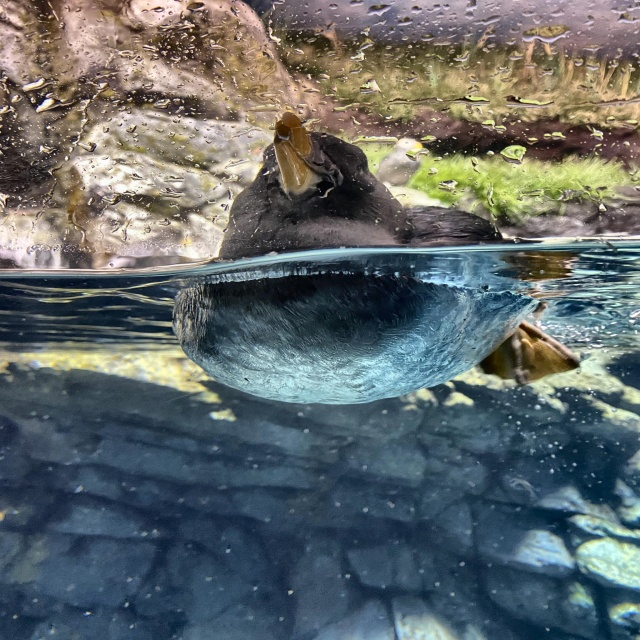puffin: (171, 108, 586, 425)
